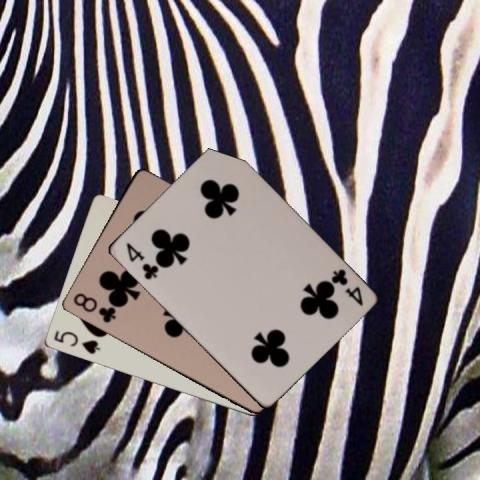4c: (327, 266, 364, 307), (123, 240, 159, 282)
5s: (51, 328, 101, 356)
8c: (70, 290, 117, 325)
